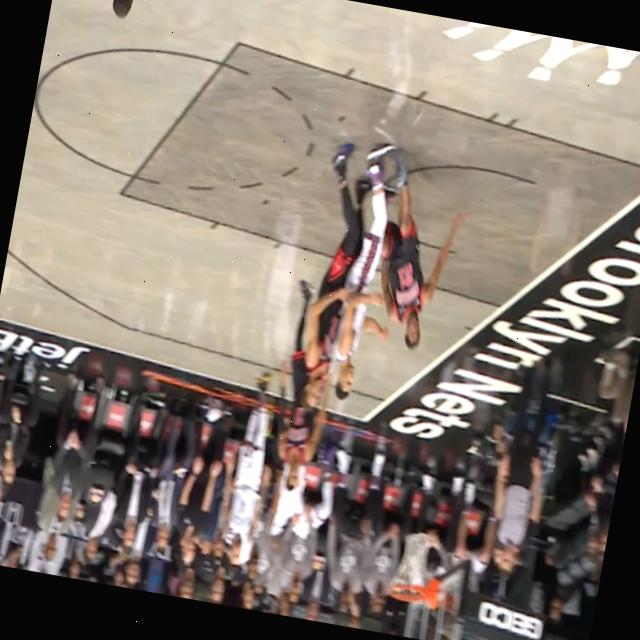foul: (280, 117, 478, 434)
